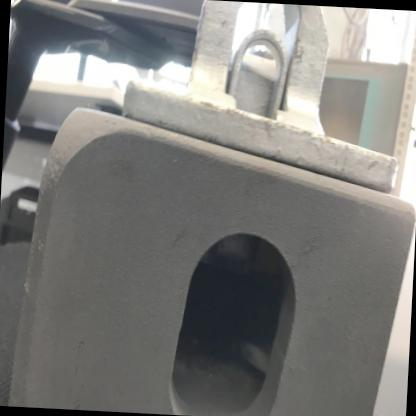CornerCasting: (15, 102, 415, 415)
Twistlock: (109, 0, 406, 197)
